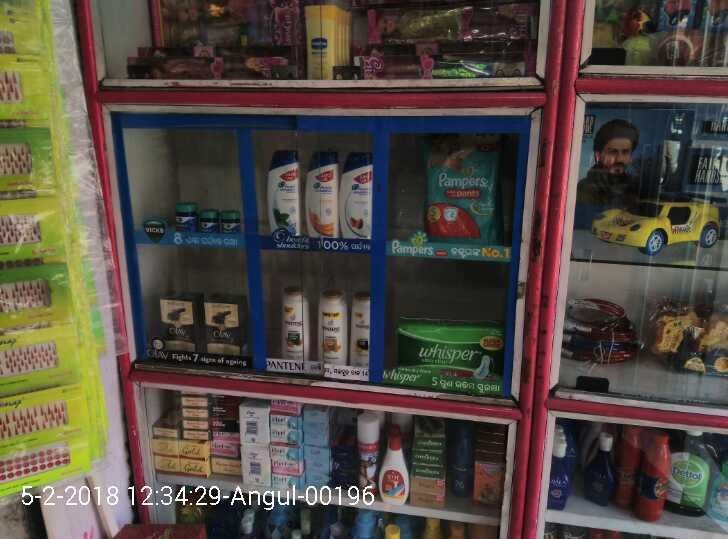vicks: (177, 201, 243, 236)
